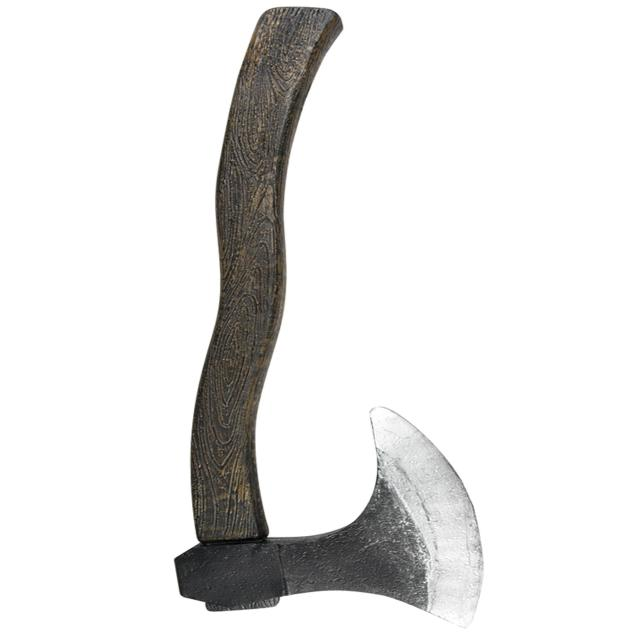Kapak: (176, 17, 481, 623)
